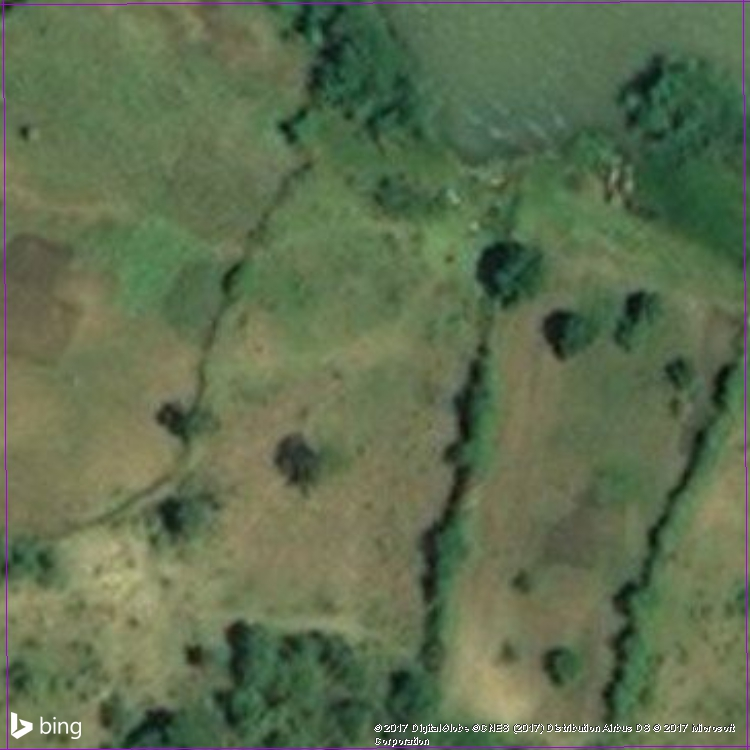boat: (598, 143, 623, 212), (620, 153, 639, 217)
